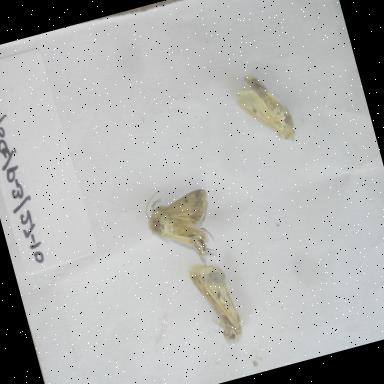abw: (128, 174, 232, 276), (225, 57, 309, 160), (174, 252, 255, 354)
